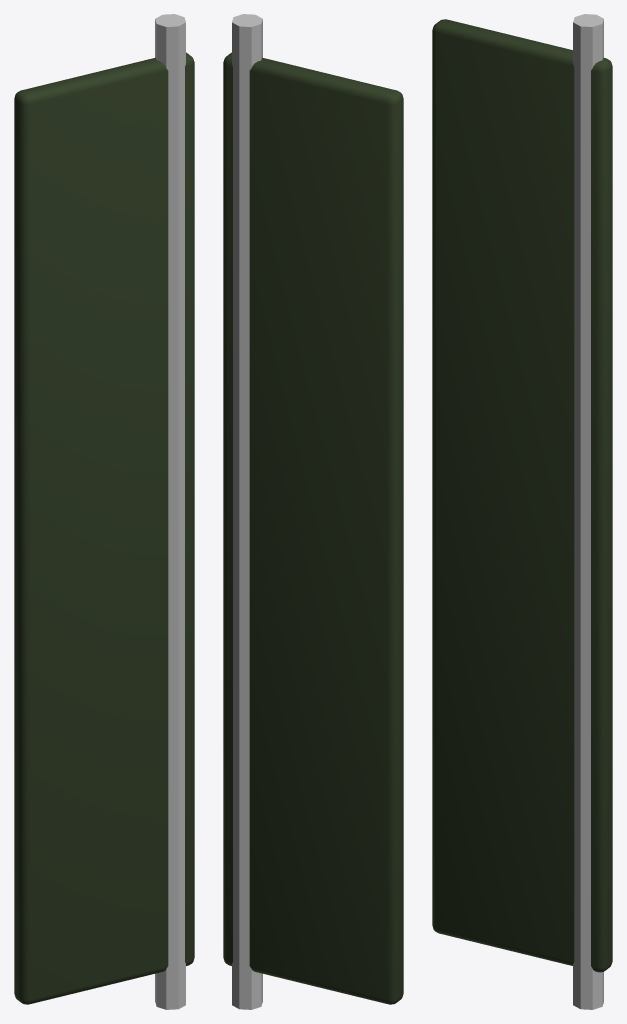
The model's file is rudder_left.glb.
3 views of the same model, side by side, from view 1: azimuth 30°, elevation 25°; view 2: azimuth 150°, elevation 25°; view 3: azimuth 330°, elevation 25° (orthographic).
Visible parts, largest first — view 1: rudder_left; view 2: rudder_left; view 3: rudder_left.
Boxes of the visible parts, left/top/right/bottom form: rudder_left: left=14, top=14, right=194, bottom=1009; rudder_left: left=223, top=14, right=403, bottom=1009; rudder_left: left=432, top=14, right=612, bottom=1009.
Size of the model in its own units: 0.1 by 0.54 by 0.016.
